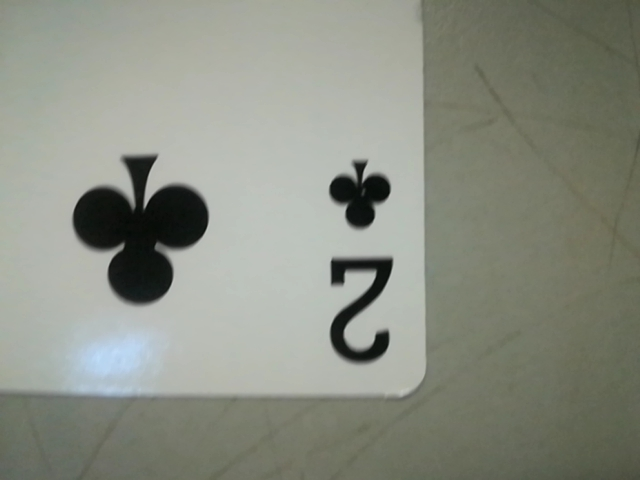mh 2: (300, 142, 418, 380)
